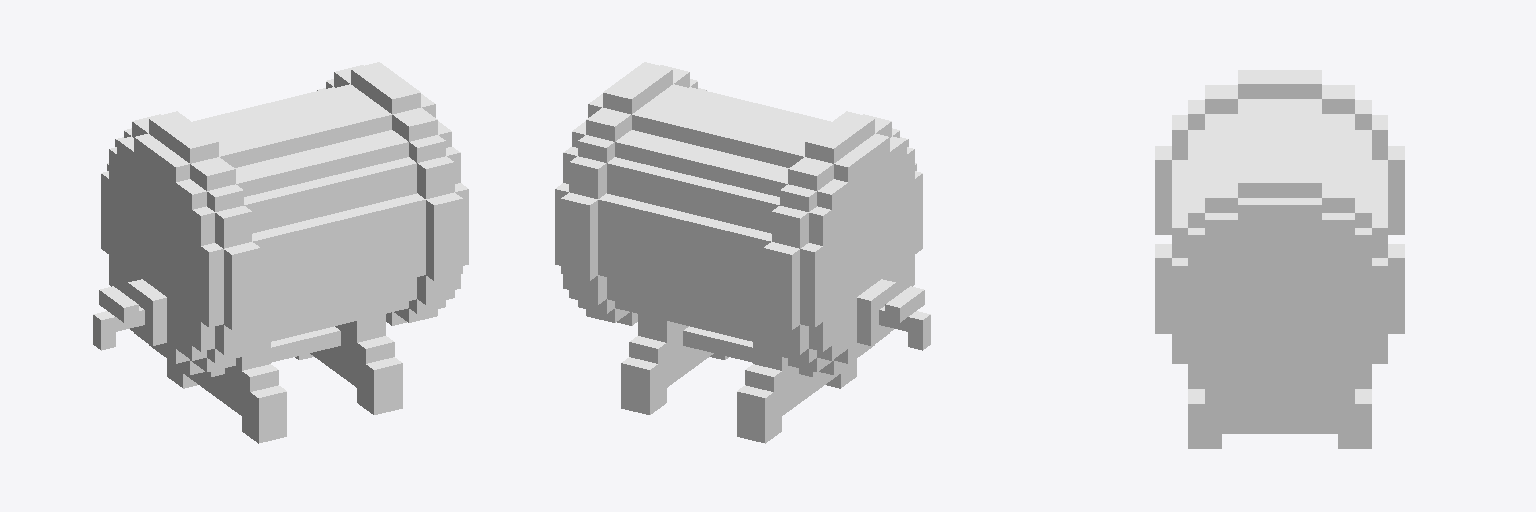
File: TVS_VoxelKnights_Keg.obj
The picture shows the model from 3 angles: view 1: azimuth 30°, elevation 25°; view 2: azimuth 150°, elevation 25°; view 3: azimuth 270°, elevation 25°; orthographic projection.
Parts seen in each view (by area): view 1: ObjObject.014; view 2: ObjObject.014; view 3: ObjObject.014.
Part boxes in pixels (bbox=[...]): ObjObject.014: bbox=[93, 62, 468, 443]; ObjObject.014: bbox=[555, 62, 930, 443]; ObjObject.014: bbox=[1155, 70, 1404, 448].
Size of the model in its own units: 2.2 by 1.9 by 1.5.